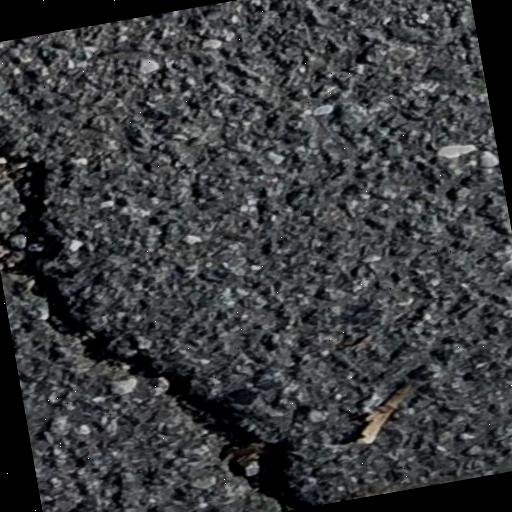spalling: (0, 130, 307, 507)
